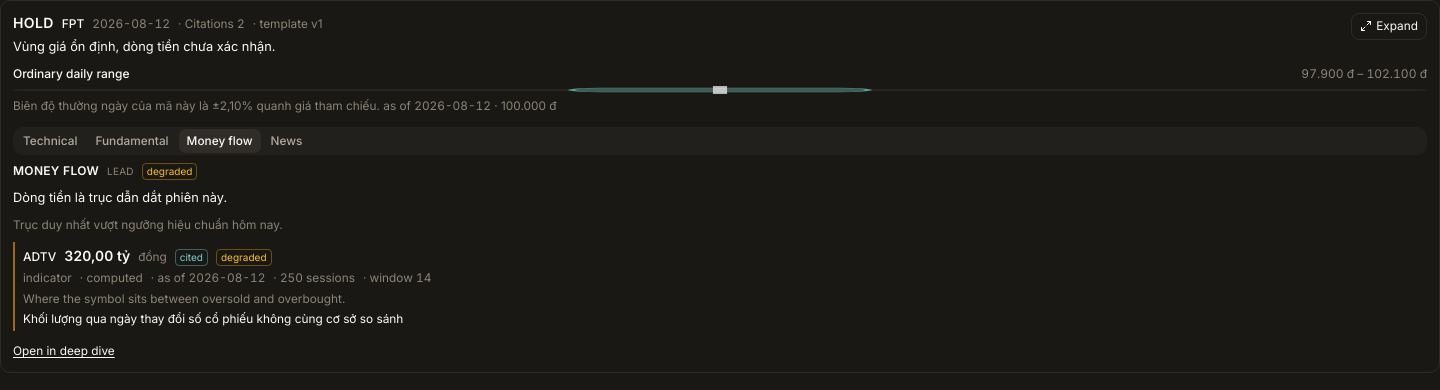
Test: the inline treatment › keeps a refused figure visible with its reason, not behind a tooltip
Step 1. Focus the tab "Fundamental" → coordinates (132, 141), box top-left (87, 129), bottom-right (177, 153)
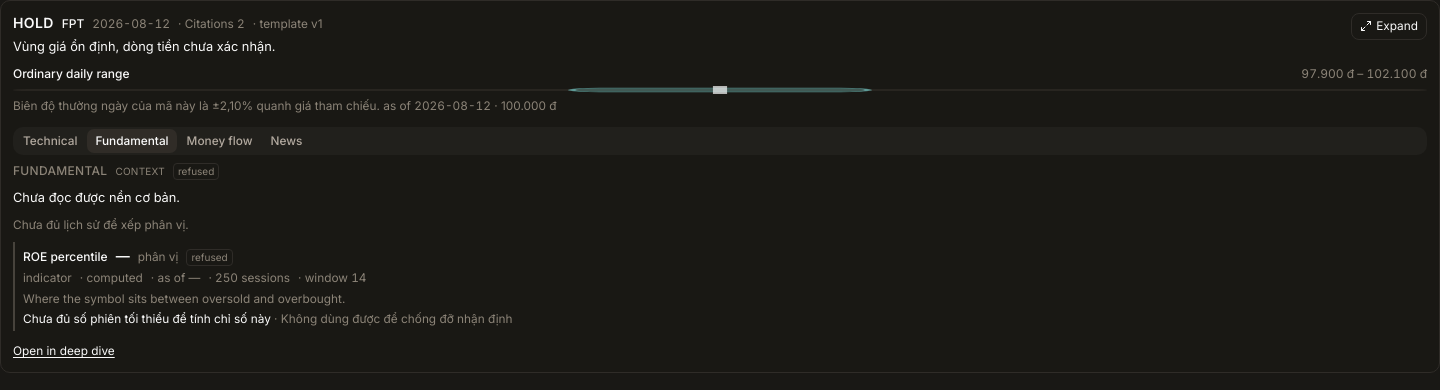
Expected: the text "ROE percentile" is shown, top-left (23, 249), bottom-right (108, 265)
Expected: the text "Chưa đủ số phiên tối thiểu" is shown, top-left (23, 312), bottom-right (271, 326)
Expected: the text "· Không dùng được để chống đỡ nhận định" is shown, top-left (271, 312), bottom-right (512, 326)
